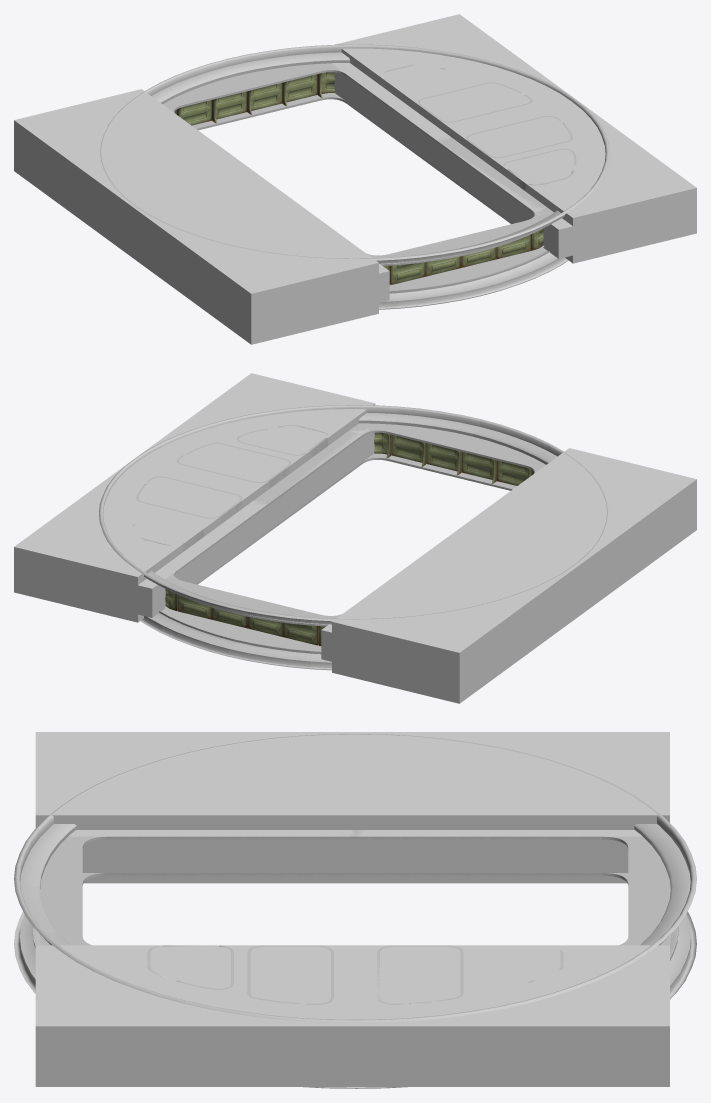
File: Hub_Ring1.FBX
3 views of the same model, one above another, from view 1: azimuth 30°, elevation 25°; view 2: azimuth 150°, elevation 25°; view 3: azimuth 270°, elevation 25° (orthographic). The views are drawn at different scales.
Parts seen in each view (by area): view 1: Ring1_COL4, Ring1_COL2, Ring1_LOD0, Ring1_COL1, Ring1_COL3; view 2: Ring1_COL4, Ring1_COL2, Ring1_LOD0, Ring1_COL1, Ring1_COL3; view 3: Ring1_COL2, Ring1_COL4, Ring1_LOD0, Ring1_COL1, Ring1_COL3.
Boxes of the visible parts, x1,y1,x2,y2 form: Ring1_COL4: (14,89,378,344); Ring1_COL2: (336,14,696,263); Ring1_LOD0: (100,44,609,309); Ring1_COL1: (332,63,696,258); Ring1_COL3: (14,134,389,333); Ring1_COL4: (332,448,696,703); Ring1_COL2: (14,373,375,622); Ring1_LOD0: (99,405,608,670); Ring1_COL1: (14,428,374,617); Ring1_COL3: (321,495,694,692); Ring1_COL2: (35,945,669,1086); Ring1_COL4: (35,732,669,883); Ring1_LOD0: (14,734,696,1088); Ring1_COL1: (35,1037,669,1075); Ring1_COL3: (68,830,642,875).
Size of what is drawn, in the model's own units: 6440 by 703 by 6400.
